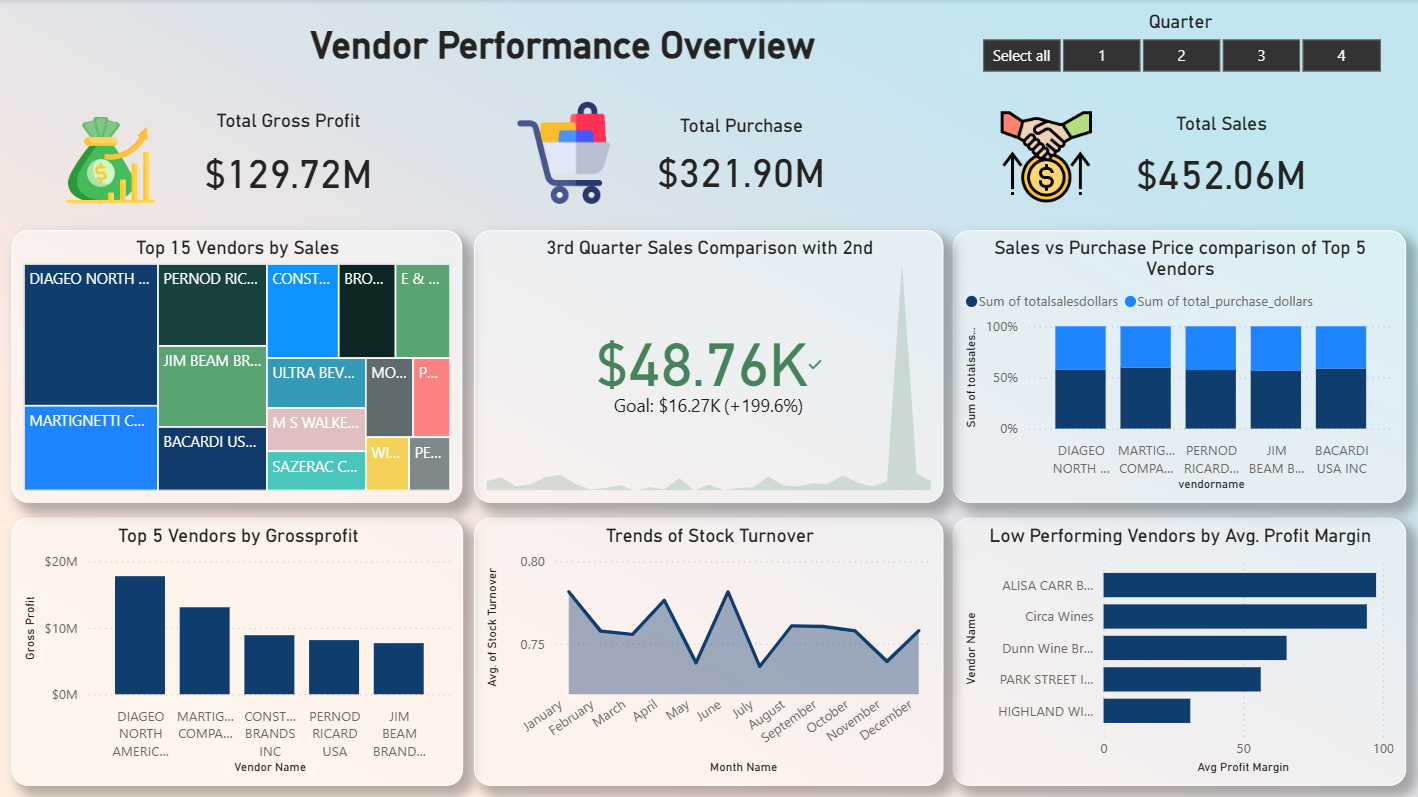

Layout of this report page (visuals, bound fields, positions):
{"tool":"powerbi","page":{"name":"Page 1","canvas":[1280,720],"ordinal":0},"visuals":[{"type":"card","title":"Total Purchase","fields":{"Values":["PurchaseContribution.TotalPurchaseInDollars"]},"box":[534.7,104.4,267.9,81],"z":0,"group":"g1"},{"type":"columnChart","title":"Top 5 Vendors by Grossprofit","fields":{"Y":["Sum(vendor_sales_summary.grossprofit)"],"Category":["sales.vendorname"]},"box":[11,467.6,407.4,241.8],"z":0},{"type":"image","box":[451.6,88.4,114.6,101.9],"z":1000,"group":"g1"},{"type":"clusteredBarChart","title":"Low Performing Vendors by Avg. Profit Margin","fields":{"Category":["stockturnover.vendorname"],"Y":["Max(BrandPerformance.avg_profit_margin)"]},"box":[860.3,467.6,408.7,241.8],"z":1000},{"type":"areaChart","title":"Trends of Stock Turnover ","fields":{"Y":["Avg(stockturnover.stockturnover)"],"Category":["sales.Month Name"]},"box":[428.3,467.6,423.4,241.8],"z":2000},{"type":"treemap","title":"Top 15 Vendors by Sales","fields":{"Values":["Sum(BrandPerformance.TotalSales)"],"Group":["sales.vendorname"]},"box":[11,208.6,406.2,245.4],"z":3000},{"type":"hundredPercentStackedColumnChart","title":"Sales vs Purchase Price comparison of Top 5 Vendors","fields":{"Category":["vendor_sales_summary.vendorname"],"Y":["Sum(sales.totalsalesdollars)","Sum(vendor_sales_summary.total_purchase_dollars)"]},"box":[860.3,208.6,408.7,245.4],"z":4000},{"type":"kpi","title":"3rd Quarter Sales Comparison with 2nd","fields":{"Goal":["sales.q2_sales"],"Indicator":["sales.q3_sales"],"TrendLine":["sales.latestsalesdate.Variation.Date Hierarchy.Day"]},"box":[428.3,208.6,423.4,245.4],"z":5000},{"type":"slicer","title":"Quarter","fields":{"Values":["sales.quarter"]},"box":[860.9,9.8,408.4,62.4],"z":6000},{"type":"card","title":"Total Gross Profit","fields":{"Values":["vendor_sales_summary.TotalGrossProfit"]},"box":[146.5,99.4,229,90.8],"z":6002,"group":"g2"},{"type":"card","title":"Total Sales","fields":{"Values":["vendor_sales_summary.totalsales"]},"box":[972,101.9,261.4,87.1],"z":6005,"group":"g3"},{"type":"image","box":[52.8,93.3,93.7,101.9],"z":6010,"group":"g2"},{"type":"image","box":[897.1,93.3,94.5,98.2],"z":6012,"group":"g3"},{"type":"textbox","box":[240.9,0,534.4,80.7],"z":7000},{"type":"group","id":"g1","title":"Group 2","box":[451.6,88.4,351,101.9],"z":8000},{"type":"group","id":"g2","title":"Group 1","box":[52.8,93.3,322.8,101.9],"z":9000},{"type":"group","id":"g3","title":"Group 3","box":[897.1,93.3,336.3,98.2],"z":10000}]}

Visuals, with their boxes in screenshot pixels (x1, y1, x2, y2), scaled from the page's 1280x720 canvas onto the 1418x797 screenshot:
"Total Purchase" card: pyautogui.locateOnScreen(592, 116, 889, 205)
"Top 5 Vendors by Grossprofit" columnChart: pyautogui.locateOnScreen(12, 518, 464, 785)
image: pyautogui.locateOnScreen(500, 98, 627, 211)
"Low Performing Vendors by Avg. Profit Margin" clusteredBarChart: pyautogui.locateOnScreen(953, 518, 1406, 785)
"Trends of Stock Turnover " areaChart: pyautogui.locateOnScreen(474, 518, 944, 785)
"Top 15 Vendors by Sales" treemap: pyautogui.locateOnScreen(12, 231, 462, 503)
"Sales vs Purchase Price comparison of Top 5 Vendors" hundredPercentStackedColumnChart: pyautogui.locateOnScreen(953, 231, 1406, 503)
"3rd Quarter Sales Comparison with 2nd" kpi: pyautogui.locateOnScreen(474, 231, 944, 503)
"Quarter" slicer: pyautogui.locateOnScreen(954, 11, 1406, 80)
"Total Gross Profit" card: pyautogui.locateOnScreen(162, 110, 416, 211)
"Total Sales" card: pyautogui.locateOnScreen(1077, 113, 1366, 209)
image: pyautogui.locateOnScreen(58, 103, 162, 216)
image: pyautogui.locateOnScreen(994, 103, 1099, 212)
textbox: pyautogui.locateOnScreen(267, 0, 859, 89)
"Group 2" group: pyautogui.locateOnScreen(500, 98, 889, 211)
"Group 1" group: pyautogui.locateOnScreen(58, 103, 416, 216)
"Group 3" group: pyautogui.locateOnScreen(994, 103, 1366, 212)
